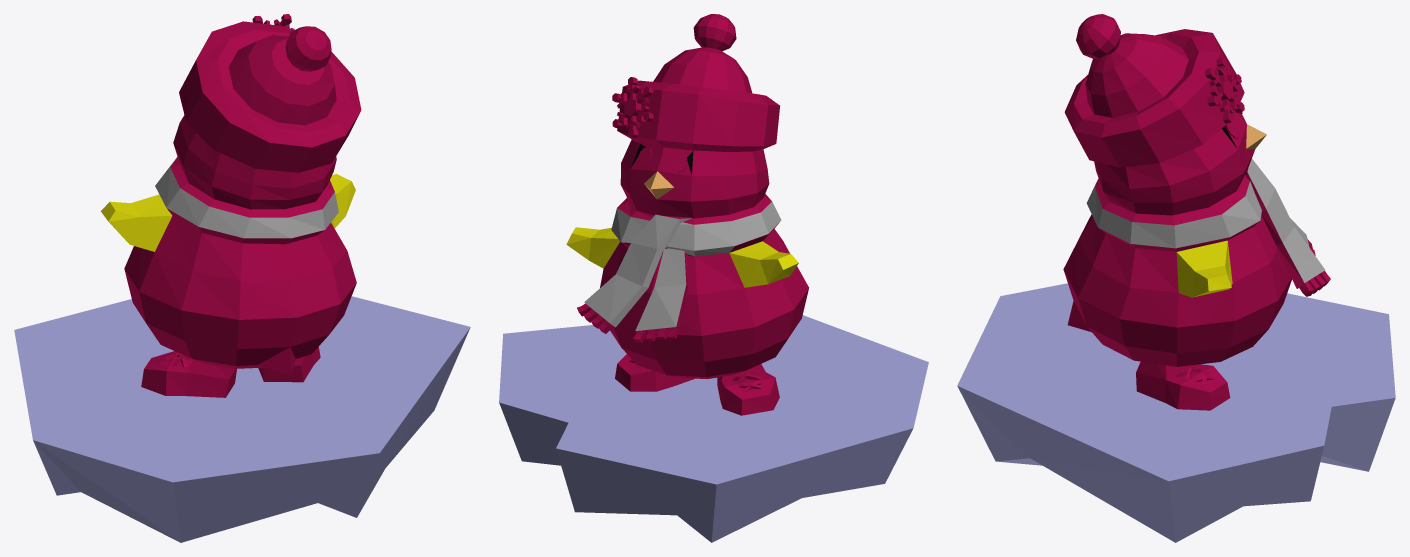
Rendered from ping.gltf.
3 renders of one model, left to right at view 1: azimuth 30°, elevation 25°; view 2: azimuth 150°, elevation 25°; view 3: azimuth 270°, elevation 25°, orthographic. The views are drawn at different scales.
Size of the model in its own units: 1.75 by 1.72 by 1.51.
